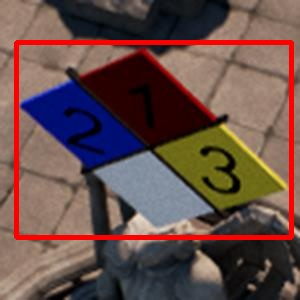nfpa: (16, 42, 291, 237)
